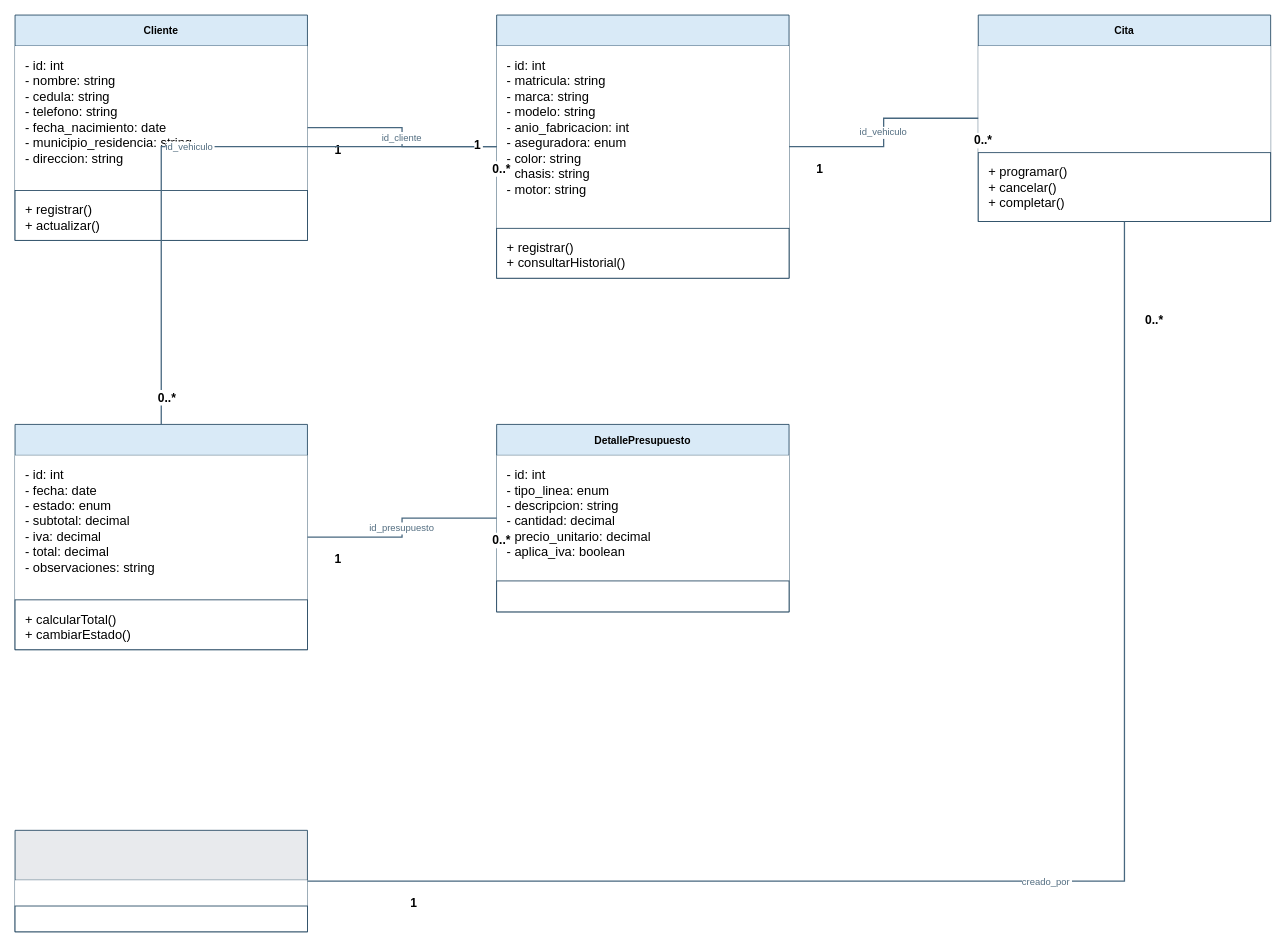
This 1286x947 diagram has some shape labels left out. The shapes that lost their labels are listed below. From the top down, each one's box as (x1, y1, x2, y2) in pixels, then its label:
(978, 46, 1270, 152): - id: int - inicio: datetime - fin: datetime - motivo: string - estado: enum
(496, 14, 789, 278): Vehiculo
(14, 424, 307, 650): Presupuesto
(496, 580, 789, 612): + calcularImporte()
(14, 829, 307, 932): «referencia» Usuario
